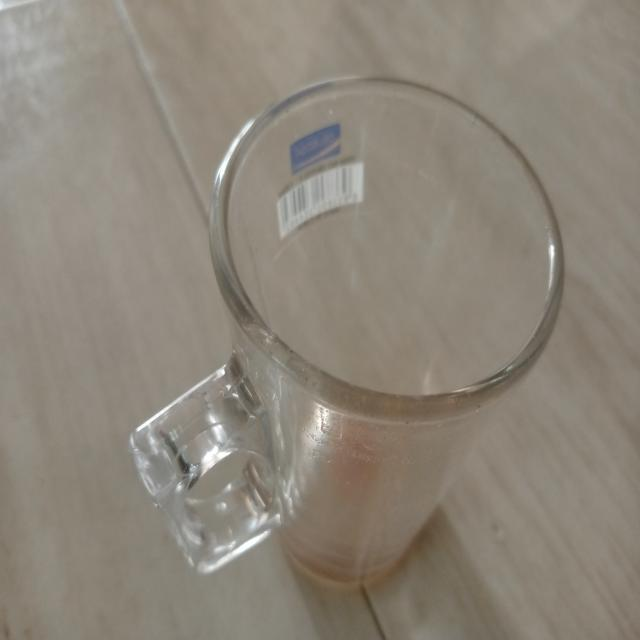glass-VX4N: (130, 72, 571, 594)
